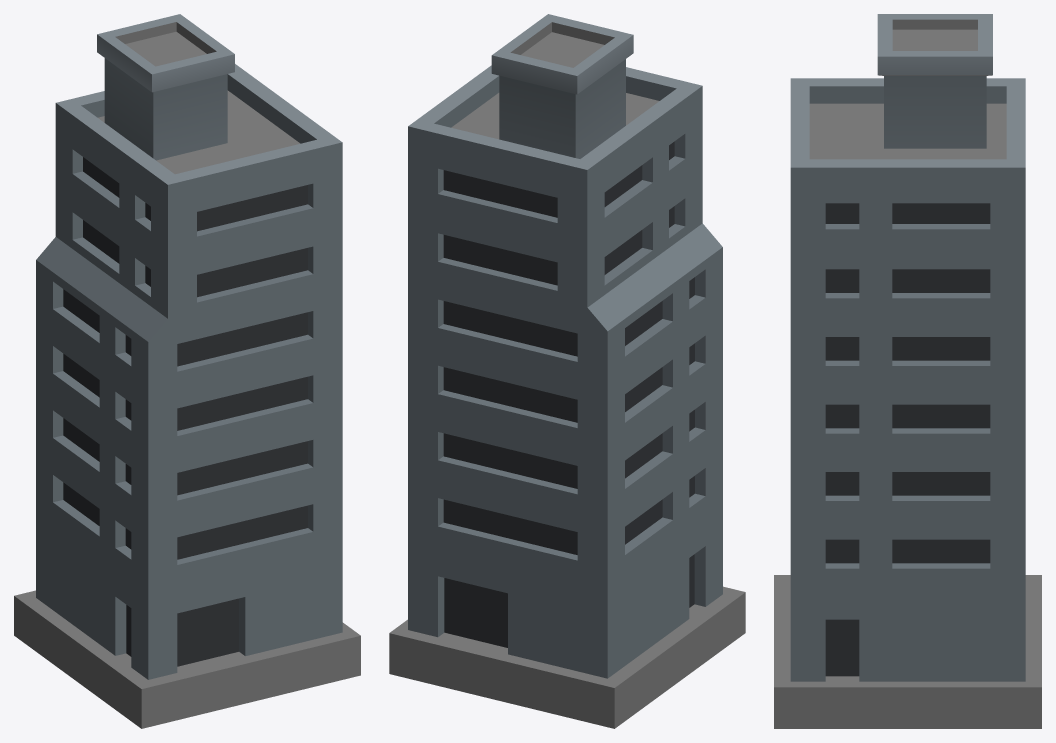
Rendered from SM_Bld_City_05.fbx.
3 renders of one model, left to right at view 1: azimuth 30°, elevation 25°; view 2: azimuth 150°, elevation 25°; view 3: azimuth 270°, elevation 25°, orthographic. The views are drawn at different scales.
Visible parts, largest first — view 1: SM_Bld_City_05; view 2: SM_Bld_City_05; view 3: SM_Bld_City_05.
Boxes of the visible parts, box(x1,y1,x2,y2) form: SM_Bld_City_05: box(14, 14, 360, 728); SM_Bld_City_05: box(389, 14, 745, 728); SM_Bld_City_05: box(774, 14, 1041, 728).
Size of the model in its own units: 52.45 by 138 by 52.85.
